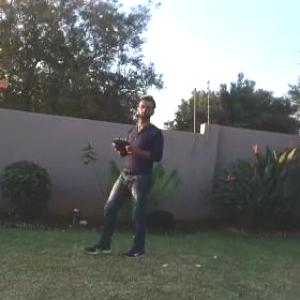follow: (79, 87, 166, 261)
